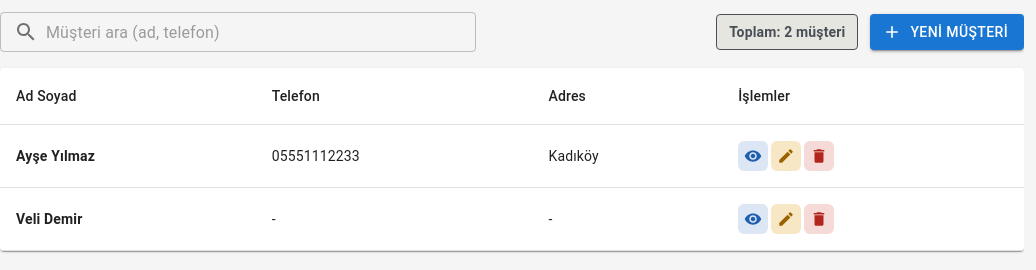
Müşteriler: arama › hızlı yazarken eski aramanın geç gelen yanıtı yenisinin üzerine yazmaz
Expected: the text "Ayşe Yılmaz" is shown, 0,124 -> 256,188
Type "ay" into the field with placeholder "Müşteri ara (ad, telefon)" at (261, 32), box 46,12 -> 476,52
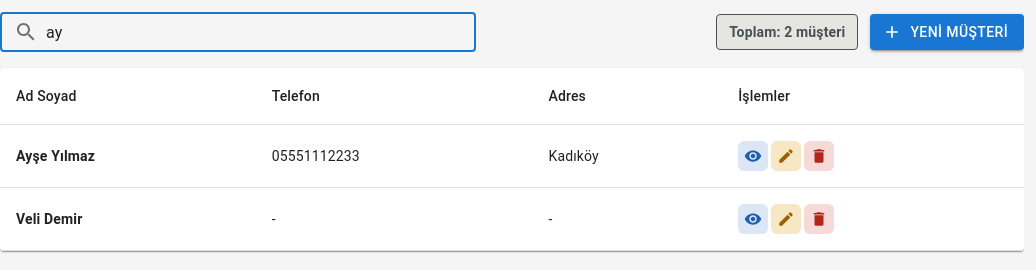
Type "a" into the field with placeholder "Müşteri ara (ad, telefon)" at (261, 32), box 46,12 -> 476,52
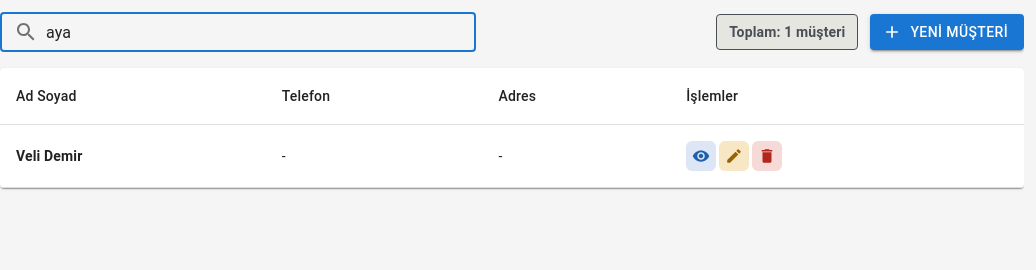
Expected: the text "Veli Demir" is shown, 0,124 -> 266,188
Expected: the text "Ayşe Yılmaz" is gone
